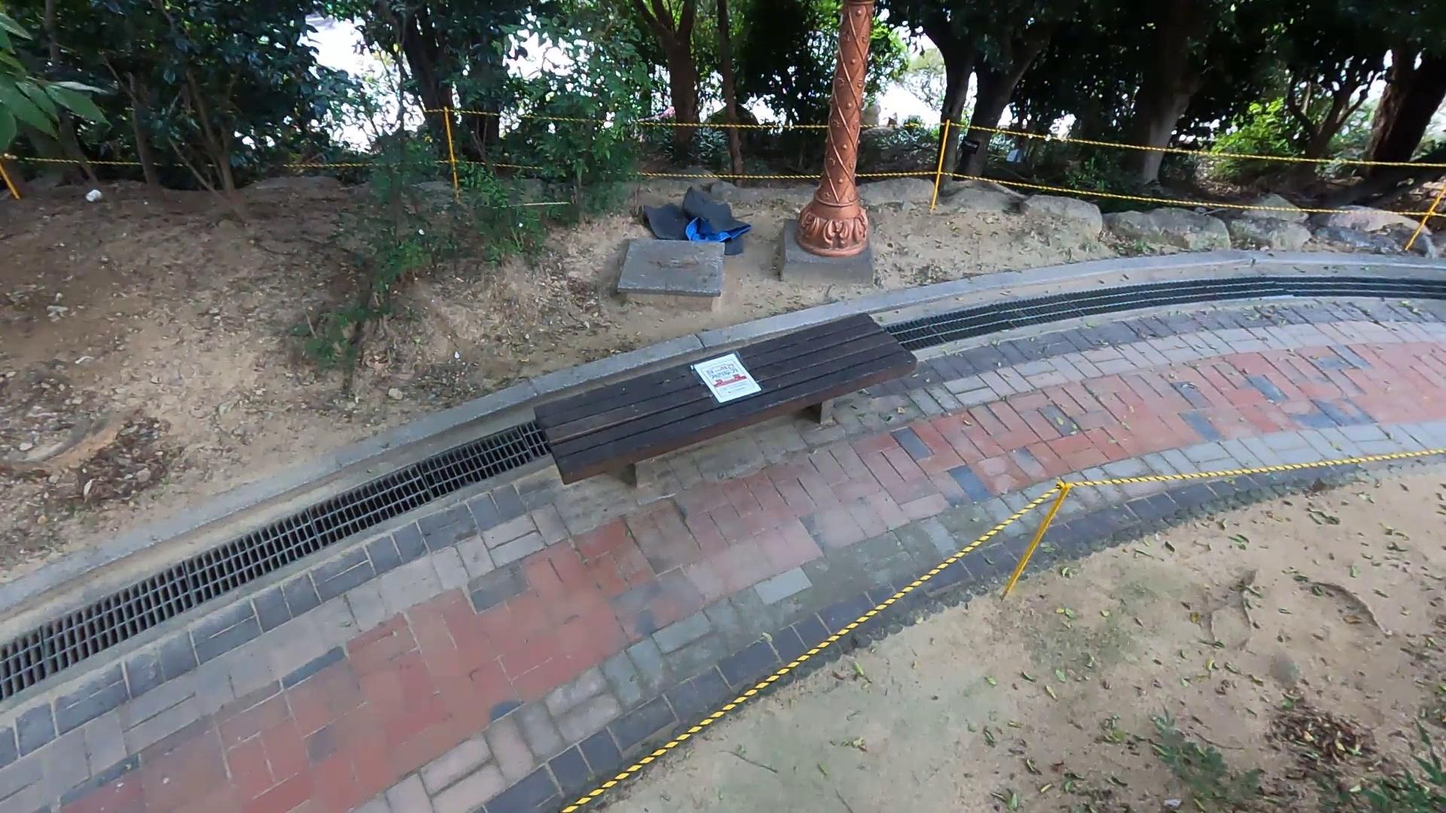trash: (641, 186, 749, 256)
